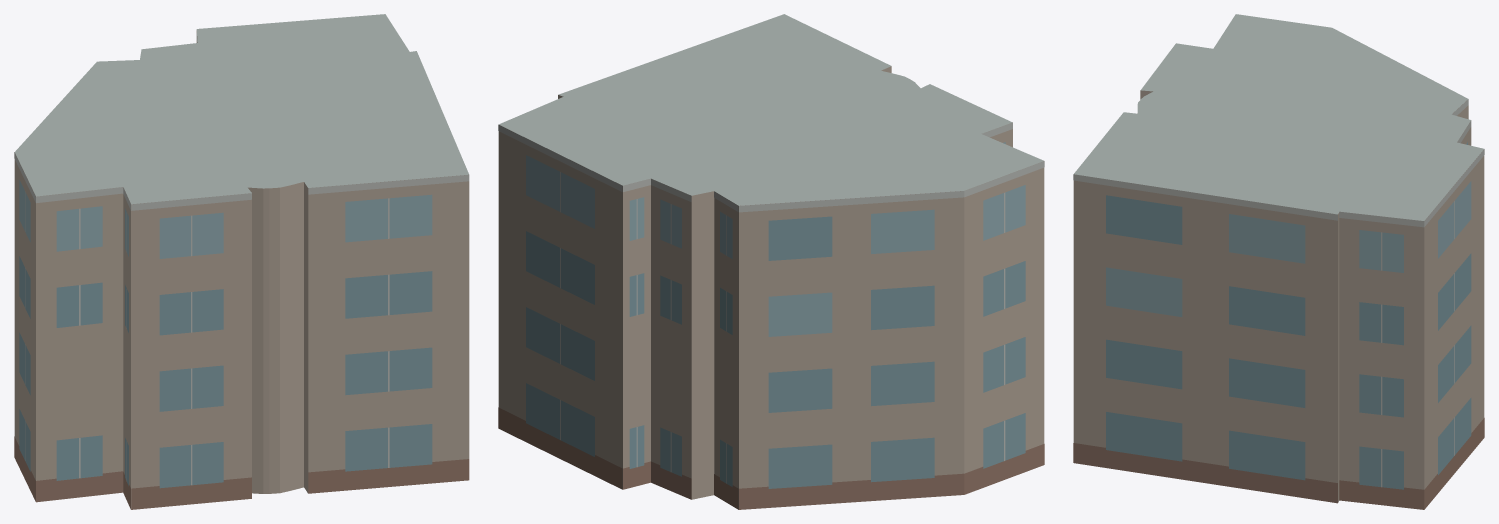
File: survey-upis-32892637.glb
3 views of the same model, side by side, from view 1: azimuth 30°, elevation 25°; view 2: azimuth 150°, elevation 25°; view 3: azimuth 270°, elevation 25° (orthographic). The views are drawn at different scales.
Visible parts, largest first — view 1: survey-upis-32892637.tmp; view 2: survey-upis-32892637.tmp; view 3: survey-upis-32892637.tmp.
Part boxes in pixels (x1,y1,x2,y2): survey-upis-32892637.tmp: (14,14,469,509); survey-upis-32892637.tmp: (498,14,1044,509); survey-upis-32892637.tmp: (1073,14,1484,509).
Size of the model in its own units: 17.39 by 11.3 by 14.58.
